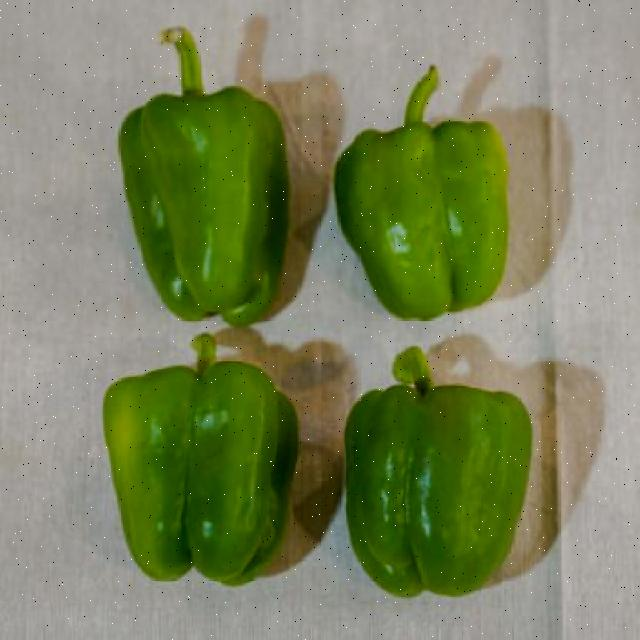Bell Pepper: (96, 6, 302, 337), (323, 329, 545, 603), (319, 49, 535, 328), (87, 323, 313, 586)
